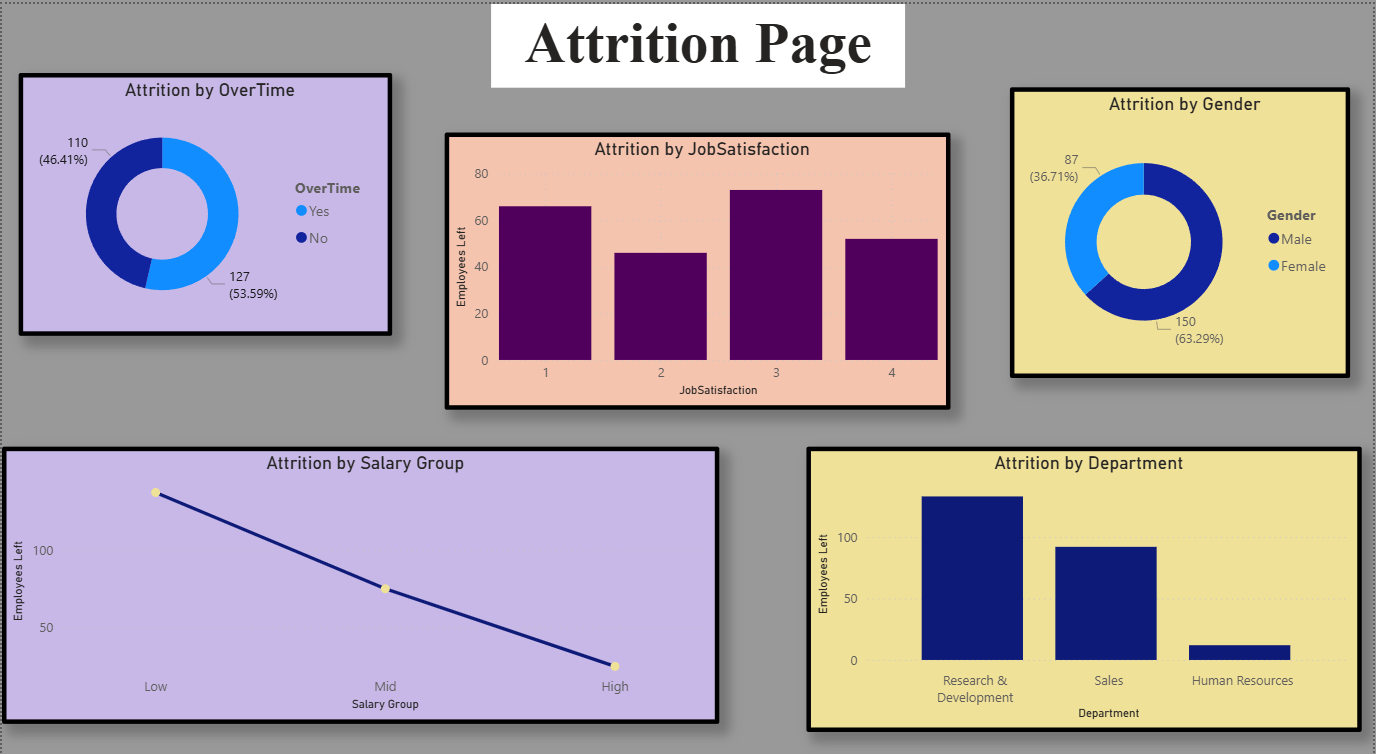

The page's visual inventory and layout, read from the dashboard file:
{"tool":"powerbi","page":{"name":"Page 2","canvas":[1280,720],"ordinal":1},"visuals":[{"type":"clusteredColumnChart","title":"Attrition by Department","fields":{"Y":["project2 data.Employees Left"],"Category":["project2 data.Department"]},"box":[751.1,413.3,518.9,266.7],"z":2},{"type":"clusteredColumnChart","title":"Attrition by JobSatisfaction","fields":{"Y":["project2 data.Employees Left"],"Category":["project2 data.JobSatisfaction"]},"box":[413.3,120,472.2,258.9],"z":3},{"type":"donutChart","title":"Attrition by OverTime","fields":{"Y":["project2 data.Employees Left"],"Category":["project2 data.OverTime"]},"box":[15.6,64.4,348.9,245.6],"z":4},{"type":"lineChart","title":"Attrition  by Salary Group","fields":{"Category":["project2 data.Salary Group"],"Y":["project2 data.Employees Left"]},"box":[0,413.3,670,258.9],"z":5},{"type":"donutChart","title":"Attrition by Gender","fields":{"Y":["project2 data.Employees Left"],"Category":["project2 data.Gender"]},"box":[941.1,77.8,317.8,271.1],"z":6},{"type":"textbox","box":[456.7,0,386.7,77.8],"z":7}]}

Visuals, with their boxes in screenshot pixels (x1, y1, x2, y2), scaled from the page's 1280x720 canvas onto the 1376x754 screenshot:
"Attrition by Department" clusteredColumnChart: 807,433,1365,712
"Attrition by JobSatisfaction" clusteredColumnChart: 444,126,952,397
"Attrition by OverTime" donutChart: 17,67,392,325
"Attrition  by Salary Group" lineChart: 0,433,720,704
"Attrition by Gender" donutChart: 1012,81,1353,365
textbox: 491,0,907,81
